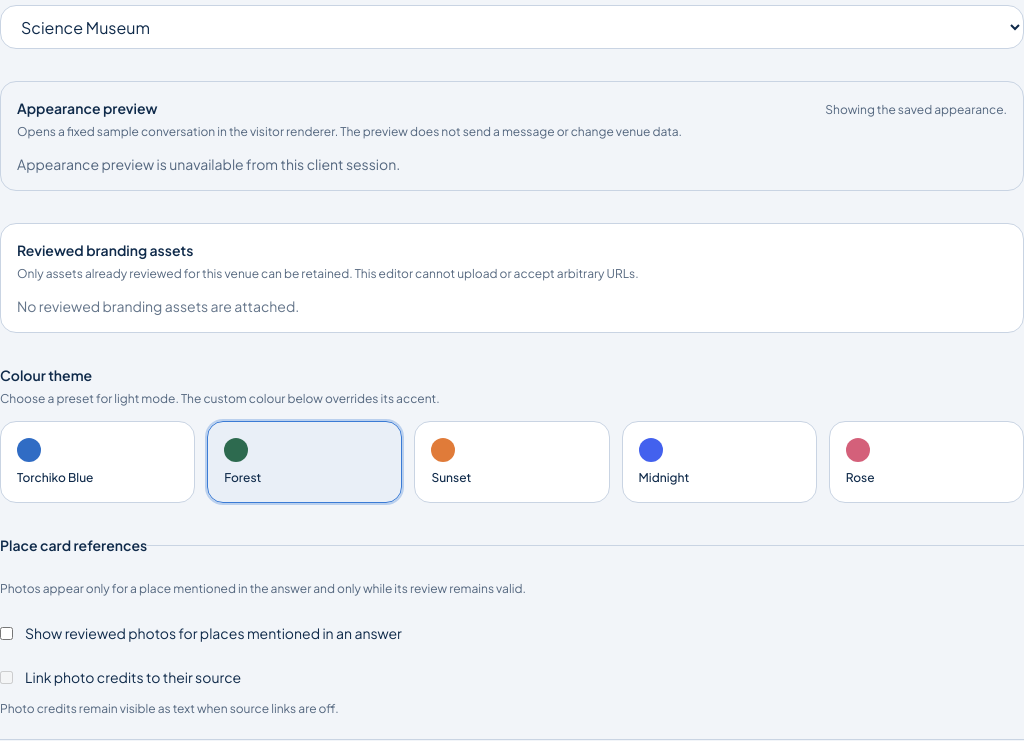
it: ChatDesignForm › retains a failed design for retry and clears stale feedback when edited
The image size is (1024, 741).
What coordinates should you click on to do the following:
click the button "Sunset"
I would click on:
 (512, 462)
Its box is [414,421,610,503].
(page scrolled)
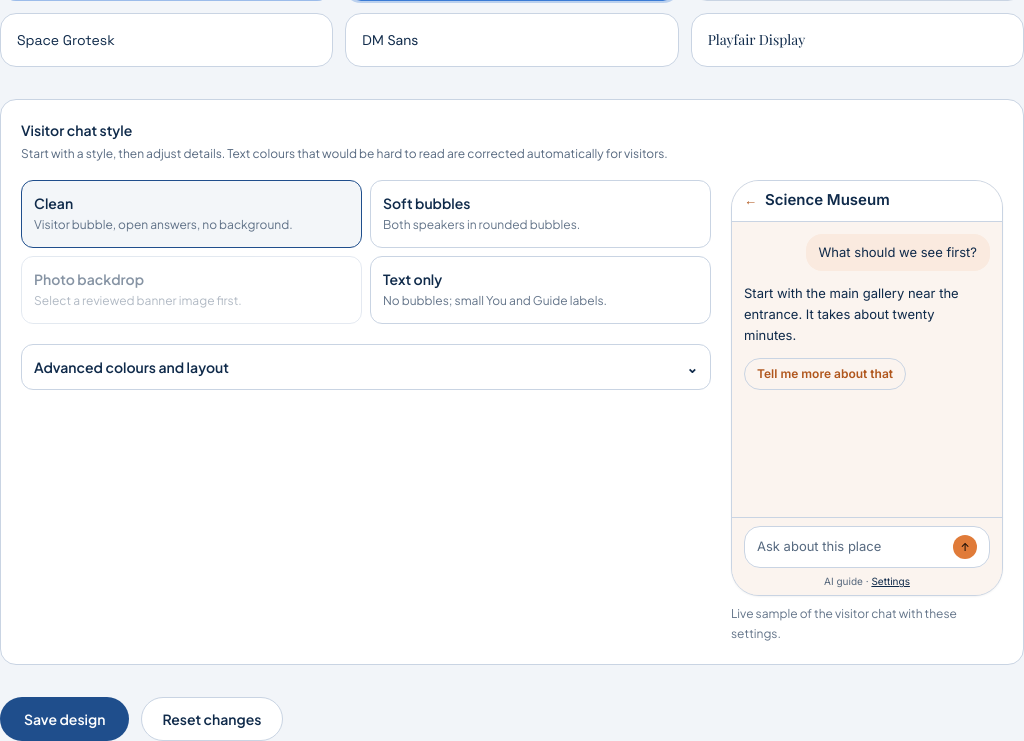
What coordinates should you click on to do the following:
click the button "Save design"
I would click on:
 (65, 719)
Its box is [0,697,129,740].
(page scrolled)
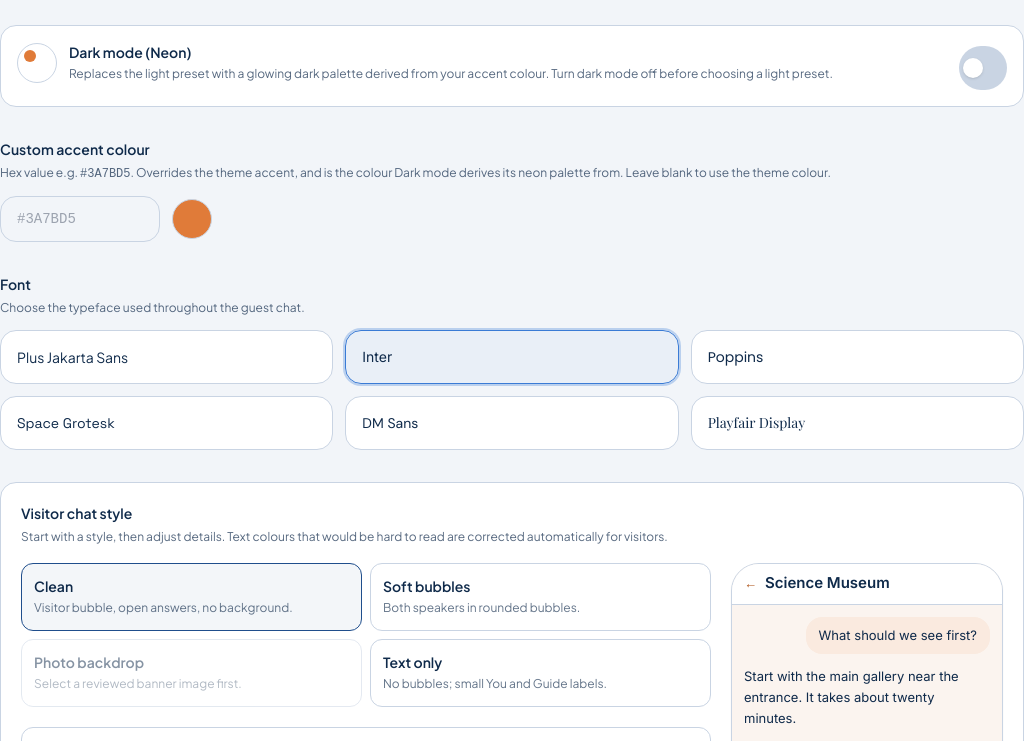
What coordinates should you click on to do the following:
click the button "Poppins"
I would click on:
 (736, 357)
Its box is [691,330,1023,384].
(page scrolled)
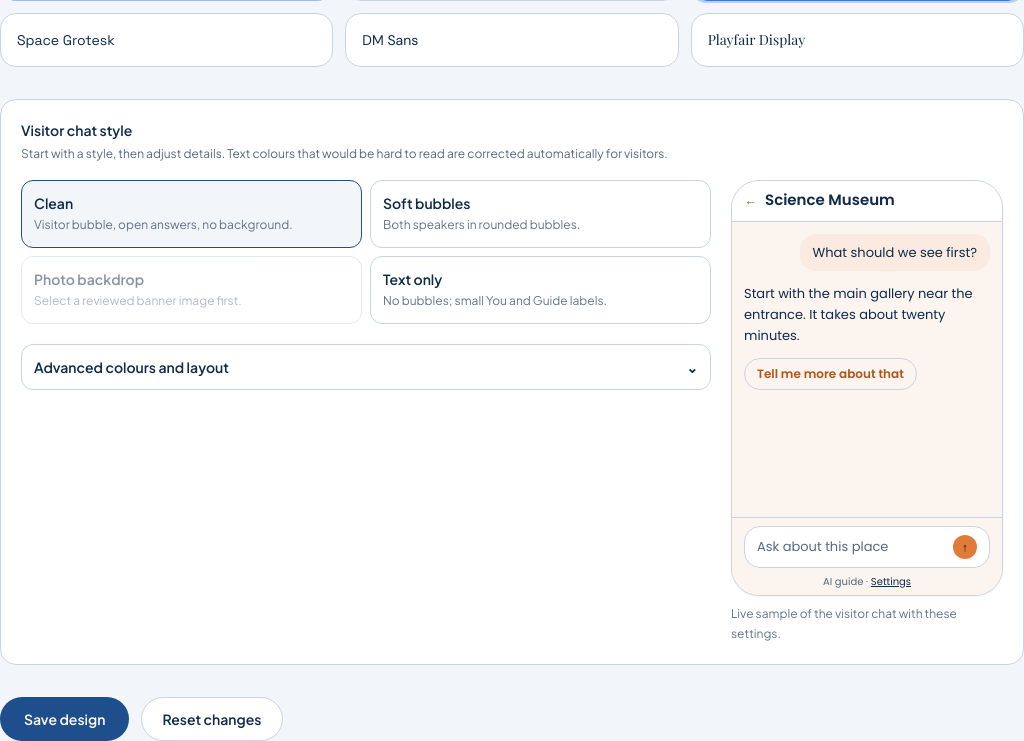
What coordinates should you click on to do the following:
click the button "Save design"
I would click on:
 (65, 719)
Its box is [0,697,129,740].
(page scrolled)
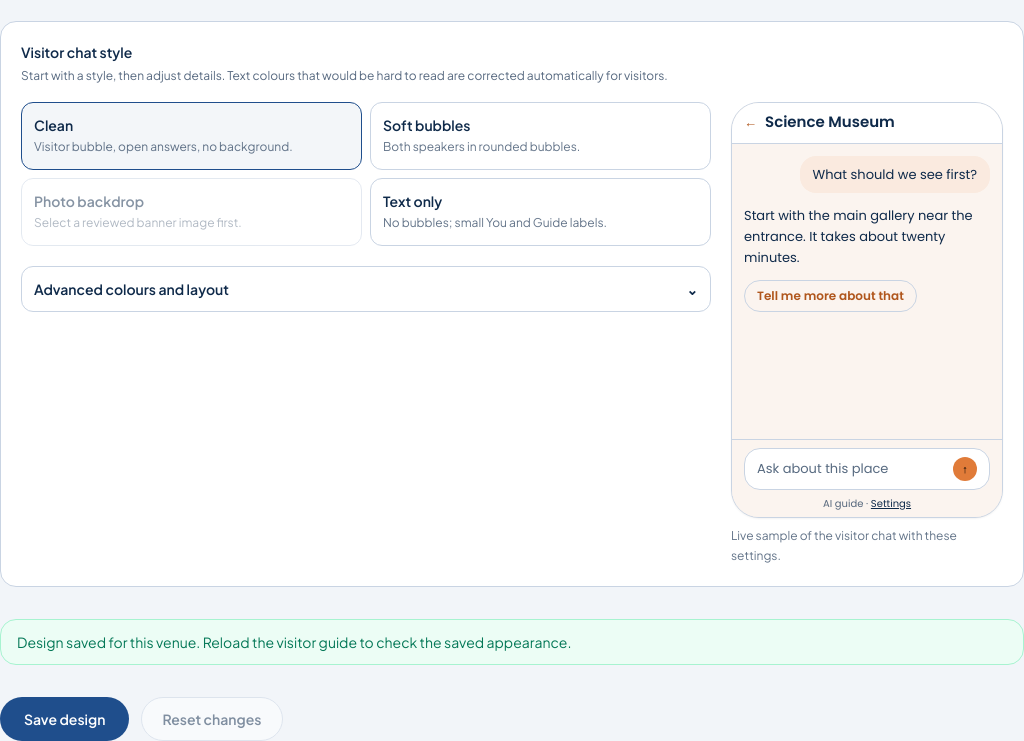
expect the message is shown: met, box [0,619,1023,665]
